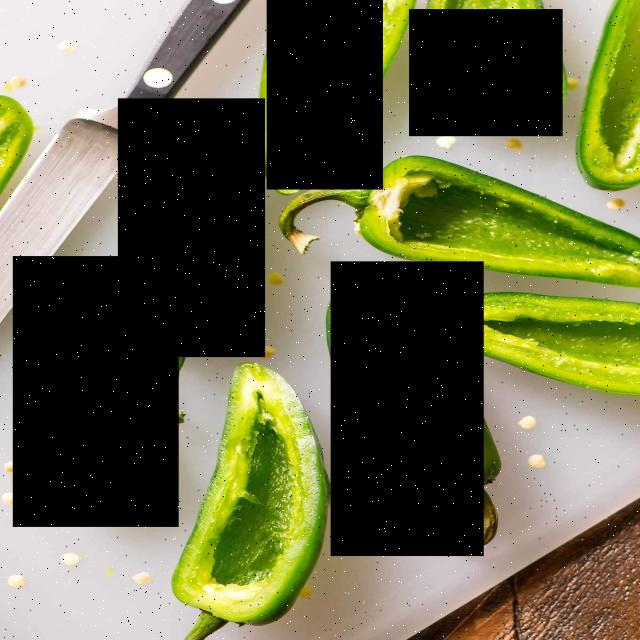Chili_Pepper: (331, 261, 484, 556), (12, 256, 178, 527), (180, 367, 330, 640), (118, 99, 266, 357), (267, 0, 383, 190), (409, 9, 563, 136)
